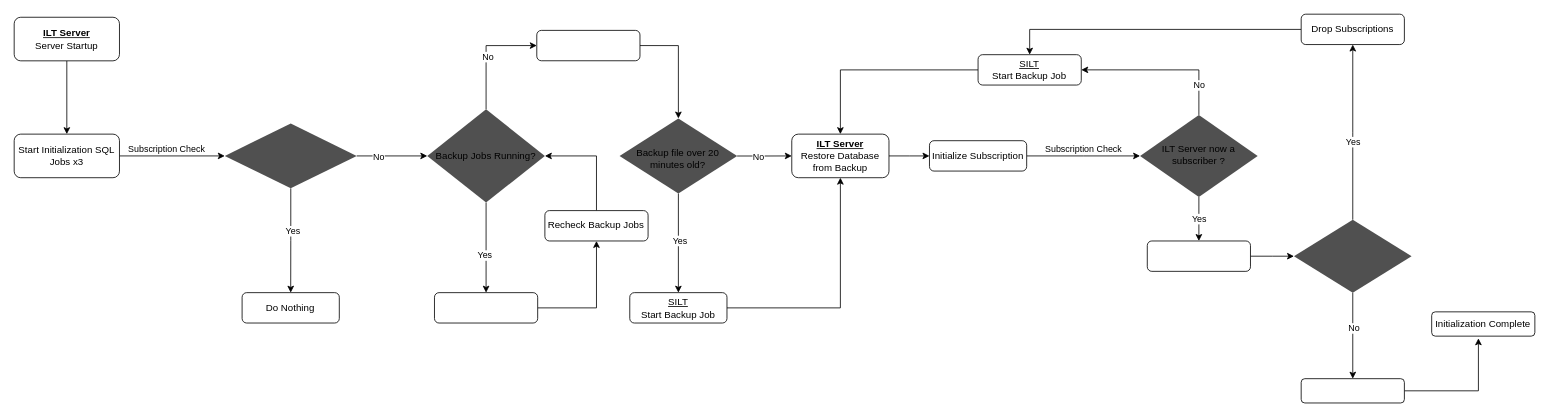
This 1550x417 diagram has some shape labels left out. The shapes that lost their labels are listed below. From the top down, each one's centre as x and y in pixels, then its label:
At (588,45): "Disable Backup Jobs".
At (290,155): "SILT Already a subscriber?".
At (1198,255): "Check SQL logs".
At (1352,255): "Replication Errors?".
At (486,307): "Wait 60 seconds".
At (1352,390): "Enable Backup Jobs".
